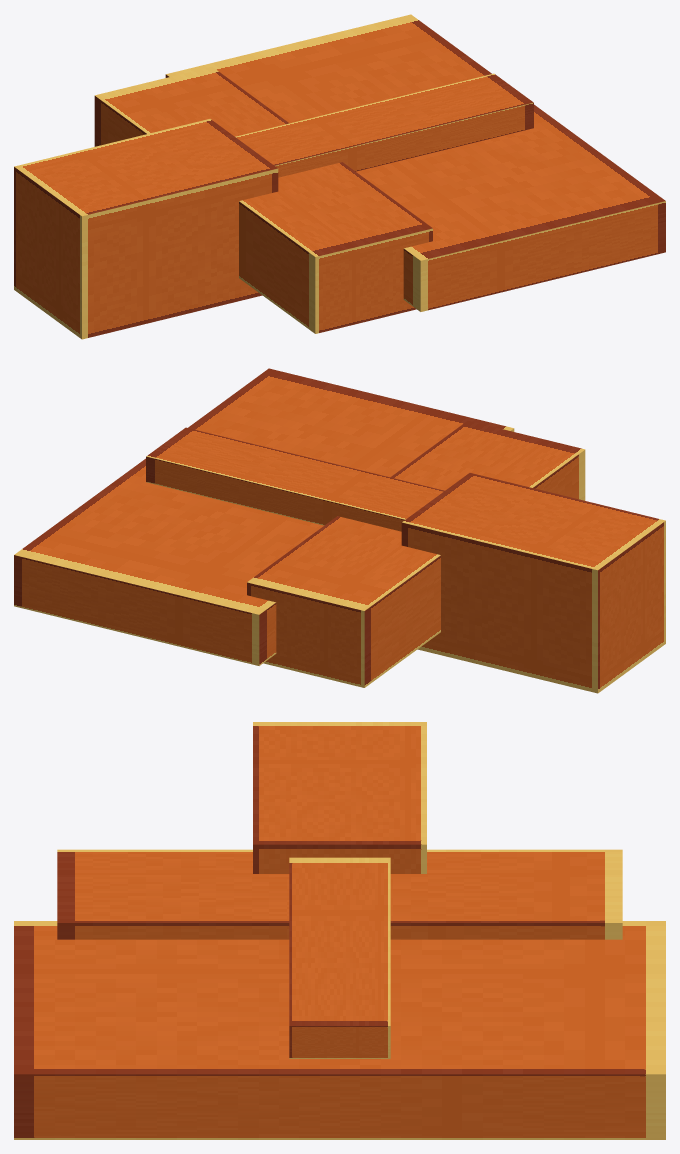
File: bench_shovel_0_hot.obj
3 views of the same model, one above another, from view 1: azimuth 30°, elevation 25°; view 2: azimuth 150°, elevation 25°; view 3: azimuth 270°, elevation 25° (orthographic). The views are drawn at different scales.
Visible parts, largest first — view 1: geometry; view 2: geometry; view 3: geometry.
Boxes of the visible parts, x1,y1,x2,y2 form: geometry: (14,14,665,339); geometry: (14,368,665,693); geometry: (14,722,665,1139).
Bounding box in the file's own units: 0.75 × 0.18 × 0.675.
